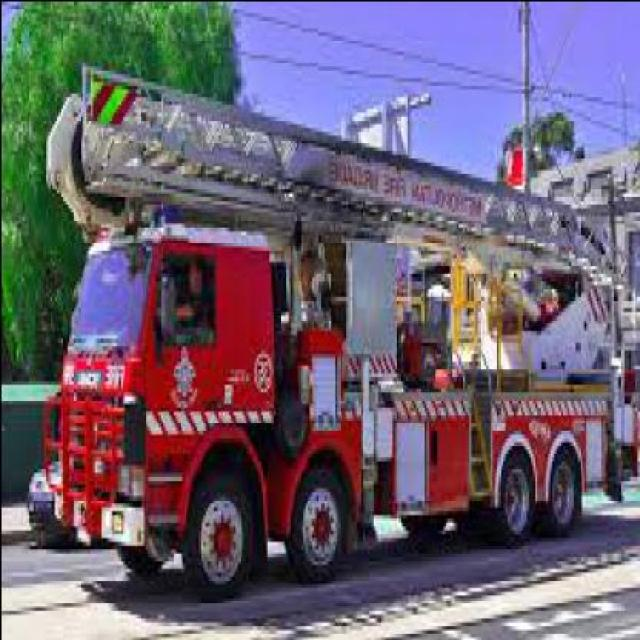Fire Truck: (25, 57, 626, 608)
